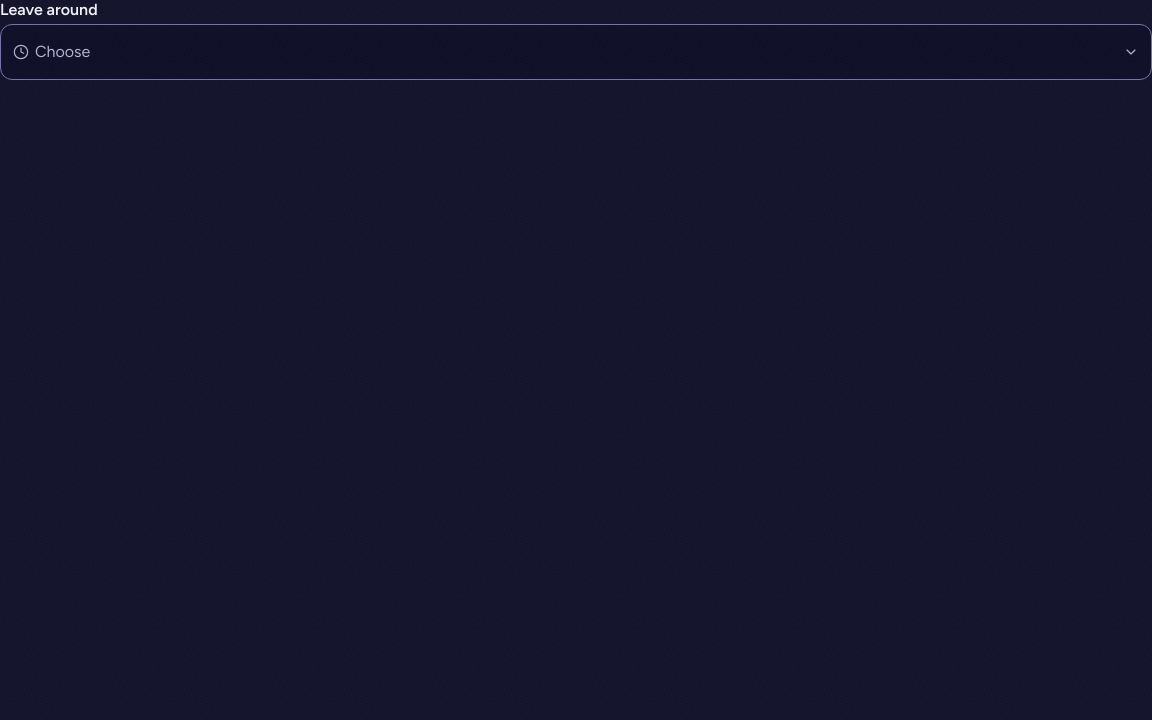
TimePicker › types 07 and 35 (type-ahead) and returns HH:MM
Click the button named "Leave around": (63, 52) [0, 24, 1151, 80]
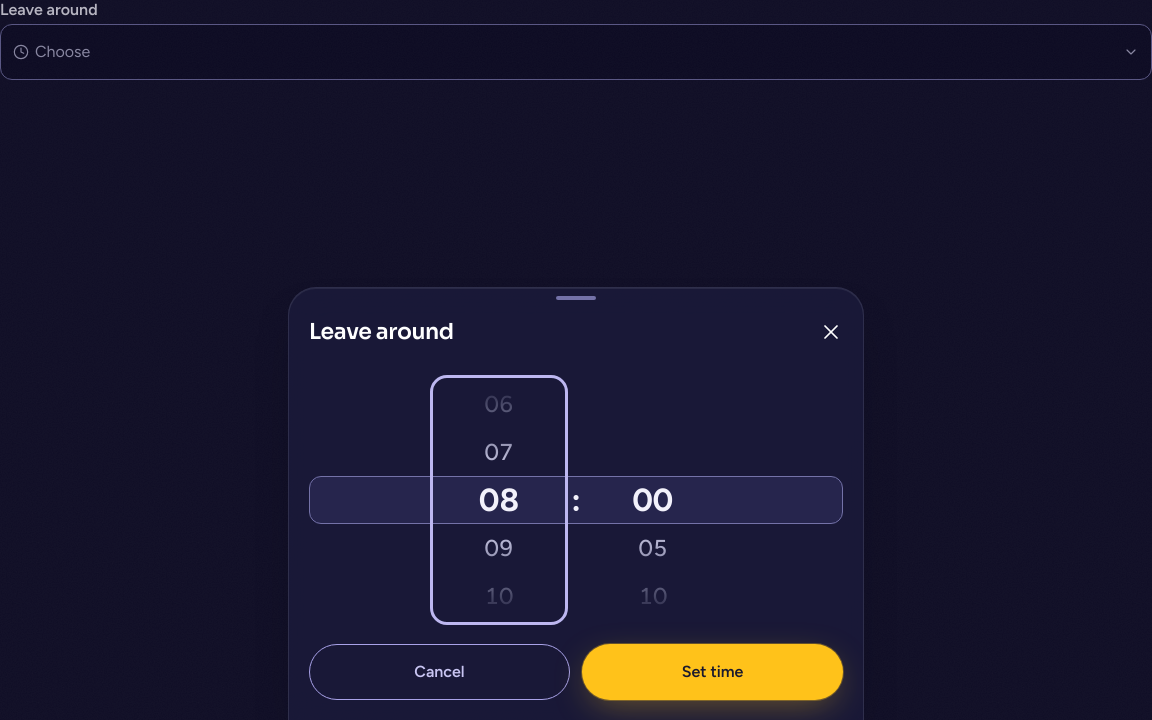
Press 0 in the list named "Hours", box [479, 390, 519, 610]
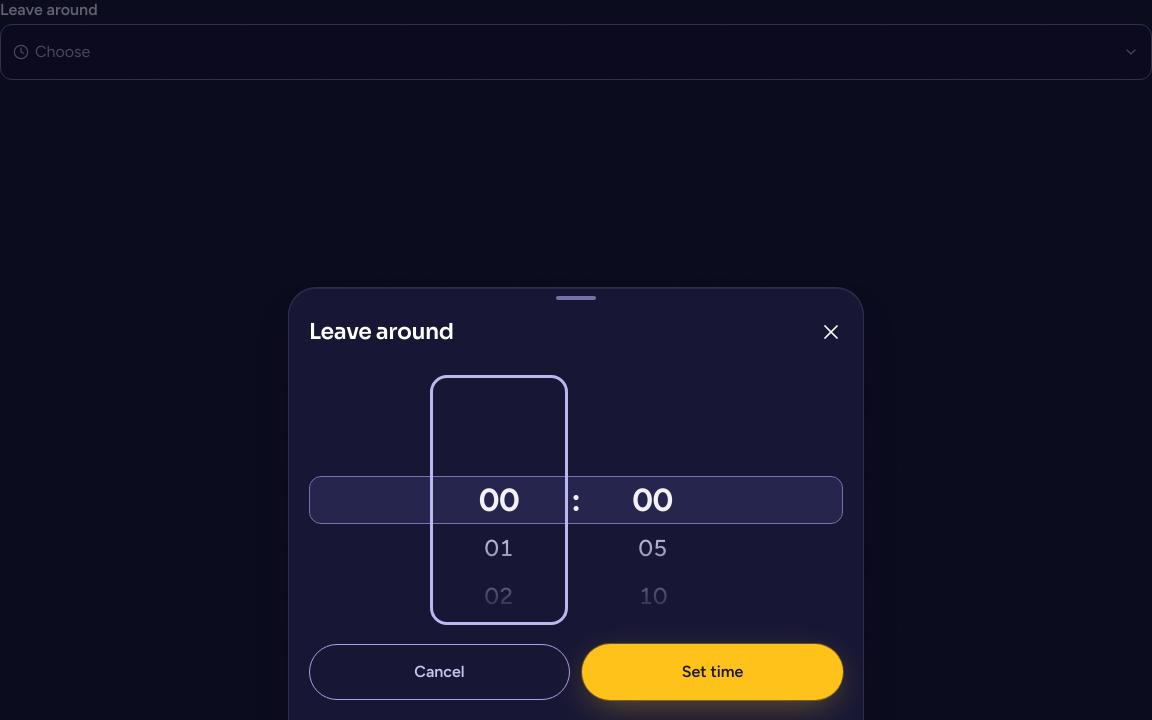
Press 7 in the list named "Hours", box [479, 481, 519, 610]
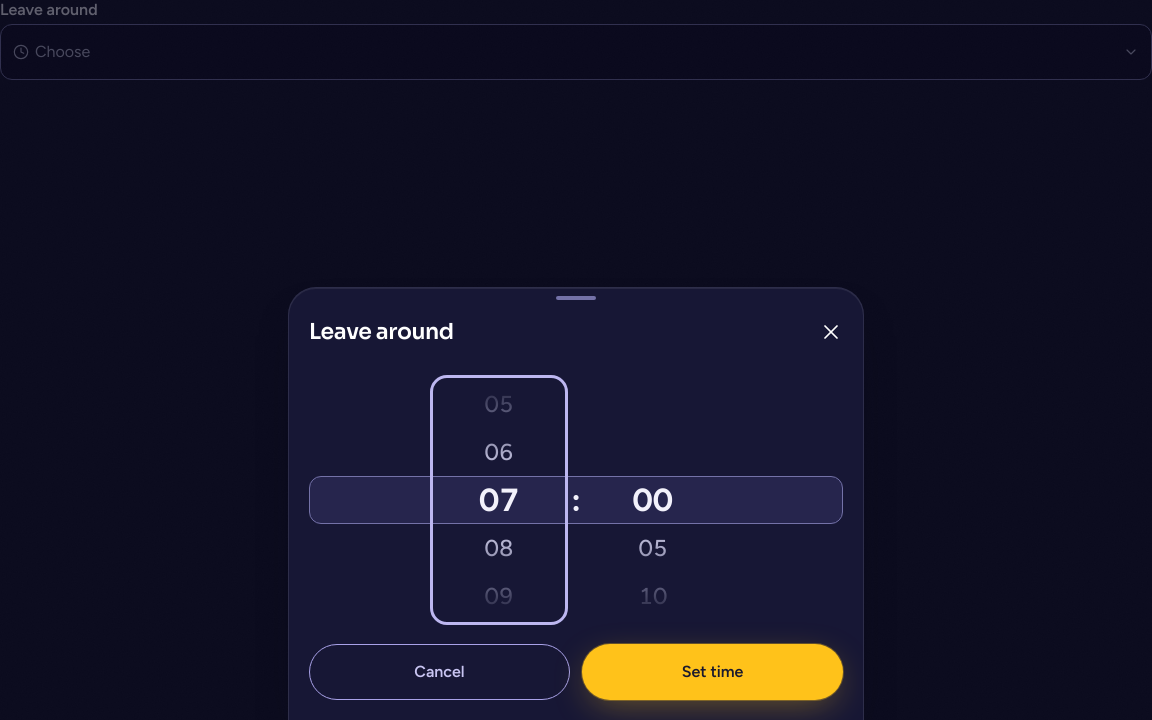
Press 3 in the list named "Minutes", box [633, 481, 673, 610]
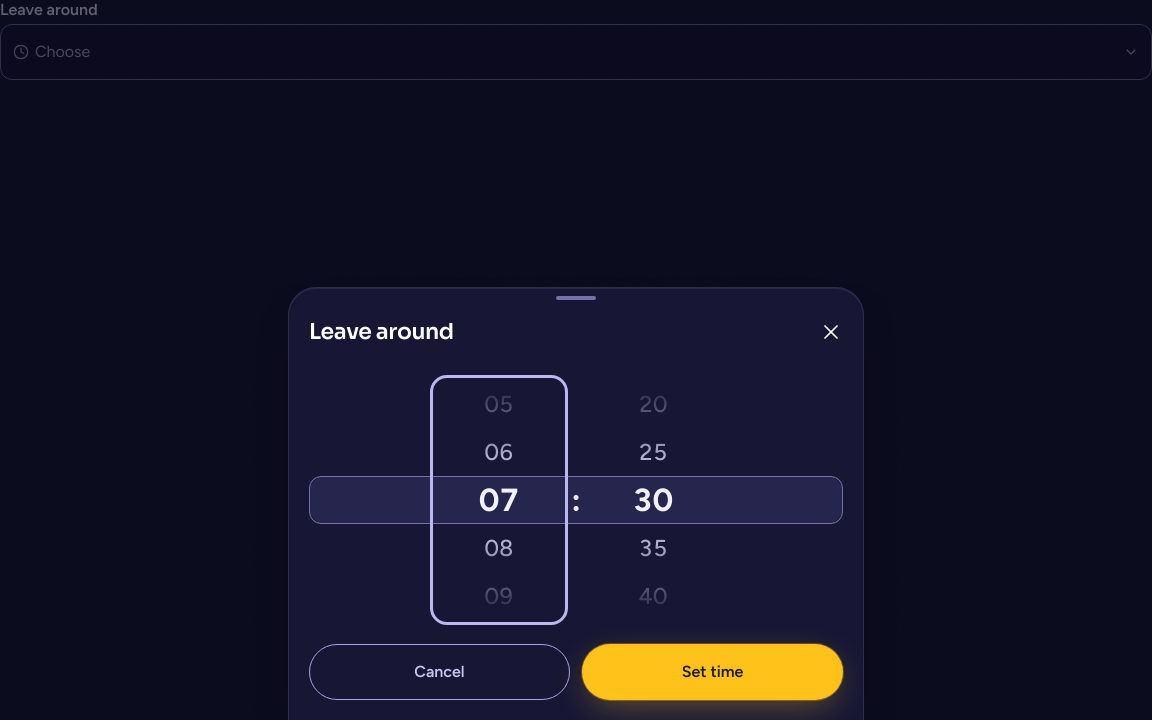
Press 5 in the list named "Minutes", box [633, 390, 673, 610]
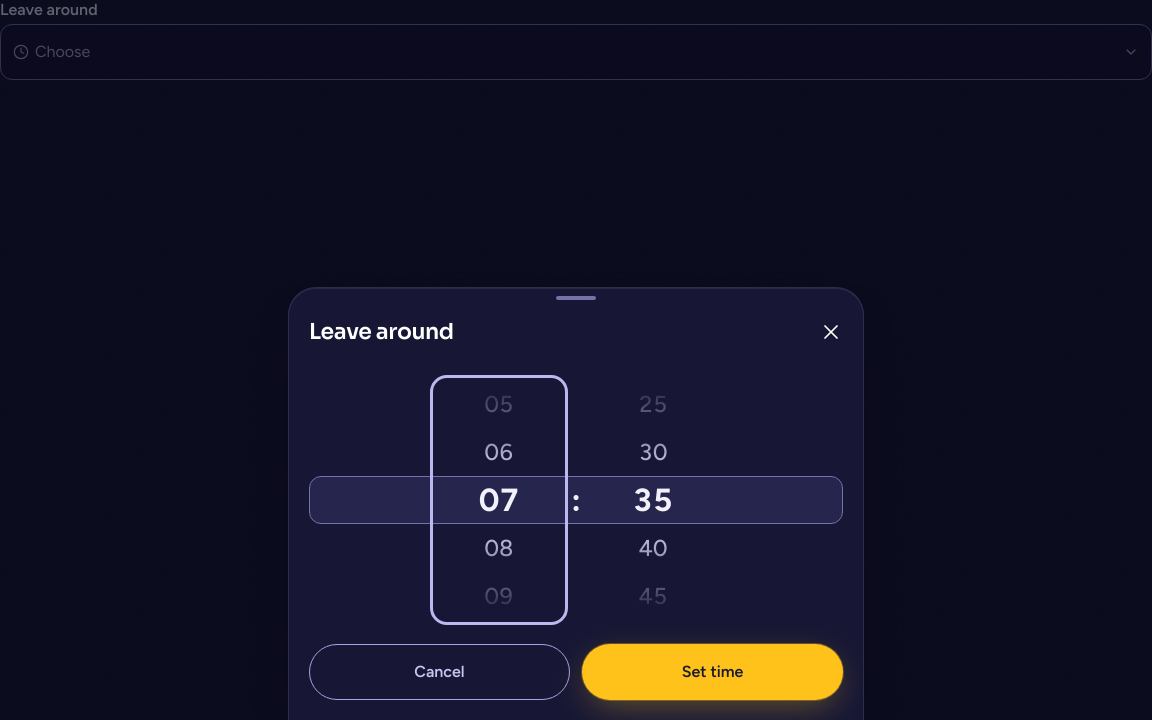
Click the button "Set time": (712, 672) [582, 644, 843, 700]
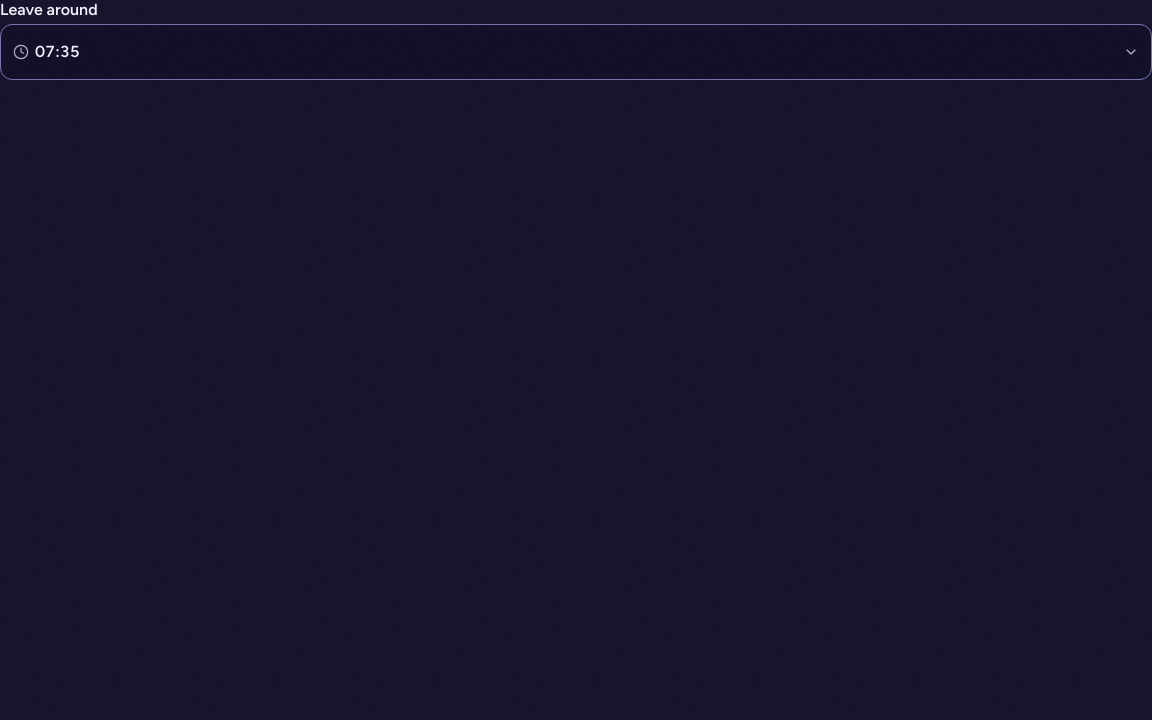
Now the button named "Leave around" reads "07:35", box [0, 24, 1151, 80]
